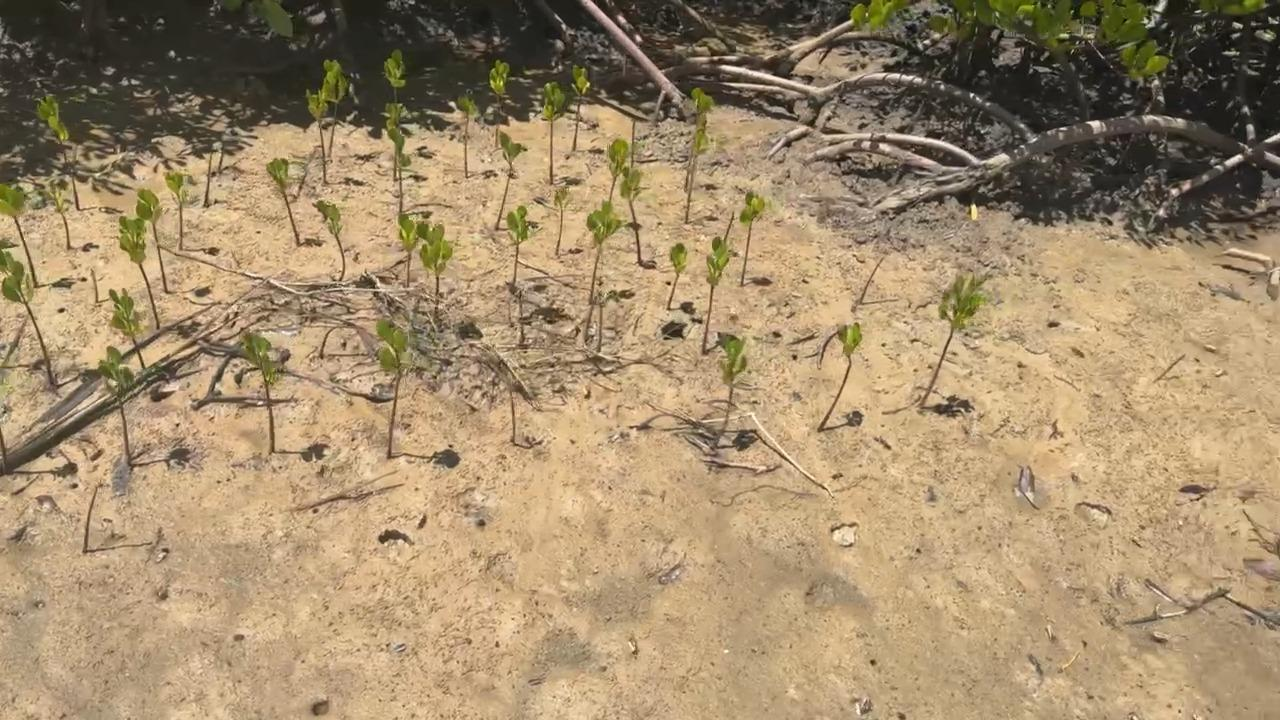Tree: (919, 273, 988, 409), (0, 250, 59, 387), (233, 329, 277, 452), (374, 319, 412, 459), (817, 322, 863, 433), (37, 93, 80, 209), (119, 216, 160, 330), (97, 345, 135, 466), (0, 182, 39, 289), (417, 221, 453, 332), (711, 337, 747, 448), (587, 200, 623, 305), (700, 235, 730, 354), (494, 132, 528, 231), (136, 189, 168, 293), (107, 288, 146, 370), (266, 158, 300, 247), (685, 88, 713, 192), (312, 199, 346, 281), (322, 59, 348, 157), (541, 82, 565, 184), (684, 131, 710, 225), (740, 190, 765, 286), (620, 166, 644, 264), (388, 126, 411, 213), (306, 89, 327, 184), (456, 88, 478, 178), (163, 173, 188, 251), (506, 205, 528, 286), (489, 60, 509, 148), (46, 188, 73, 250), (398, 213, 420, 288), (571, 65, 590, 151), (667, 242, 688, 311), (608, 138, 629, 203), (555, 186, 572, 255), (203, 151, 213, 207)
